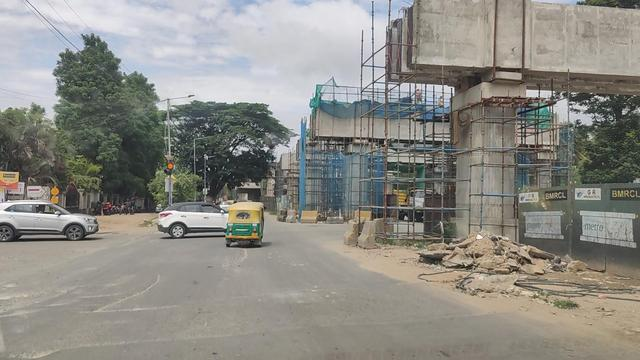LMV: (0, 204, 95, 240), (161, 196, 227, 236), (224, 201, 268, 248)
RoadDamages: (96, 260, 161, 310), (0, 279, 73, 320), (41, 339, 115, 360)
